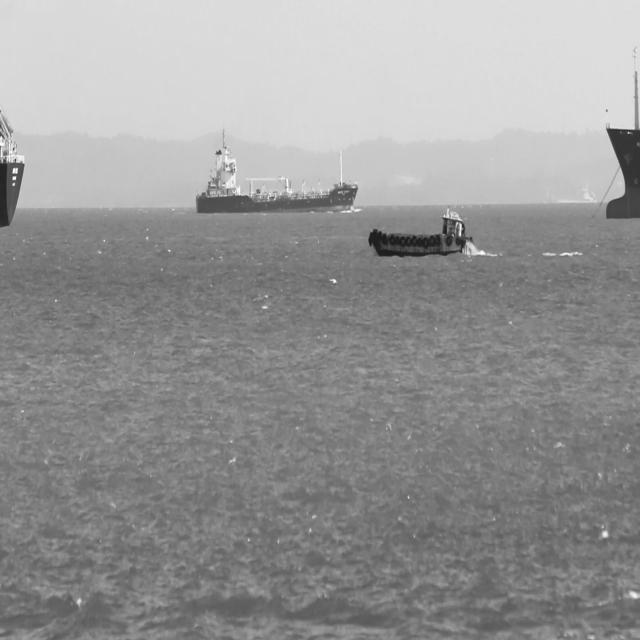ship: (194, 124, 358, 215), (606, 44, 639, 219), (368, 204, 475, 257), (0, 103, 25, 227)
